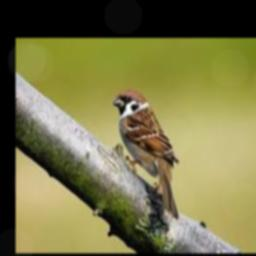Sparrow: (113, 90, 179, 219)
